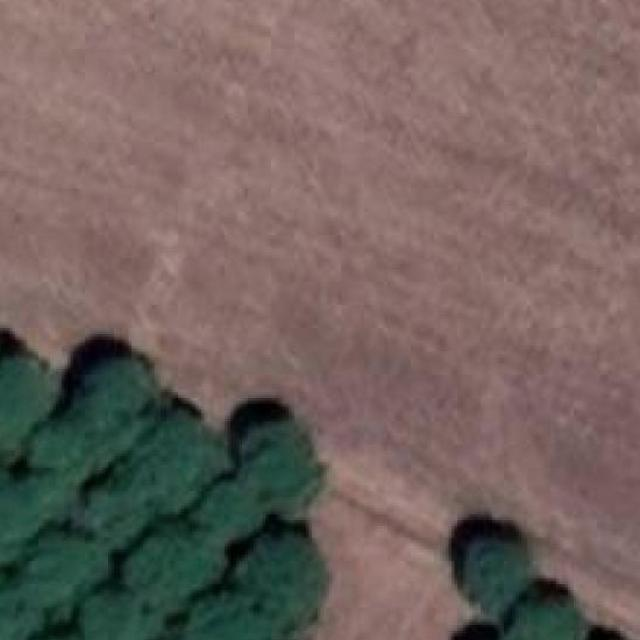Tree: (129, 414, 228, 506), (120, 520, 217, 605), (238, 526, 324, 620), (10, 520, 94, 609), (242, 415, 321, 505), (460, 526, 544, 610), (82, 349, 166, 432), (29, 419, 115, 498), (77, 477, 164, 553), (176, 586, 284, 640), (195, 472, 268, 547), (0, 351, 52, 456), (0, 459, 54, 555), (68, 586, 152, 640), (504, 590, 591, 640)
